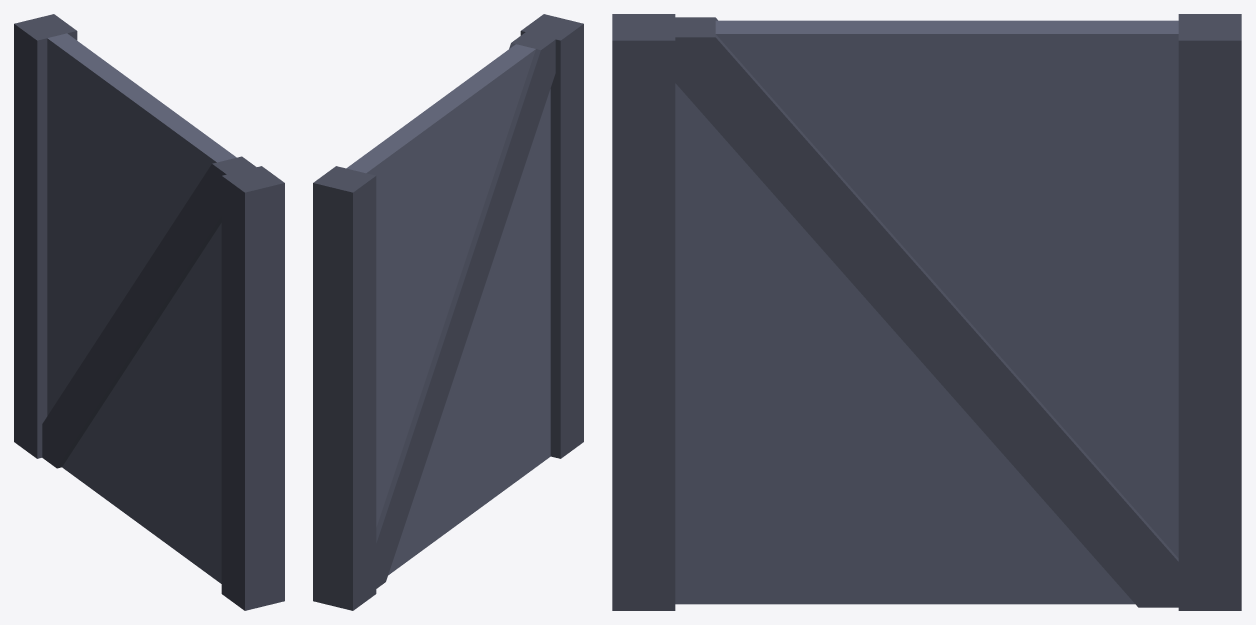
File: wall-wood-detail-diagonal.glb
3 renders of one model, left to right at view 1: azimuth 30°, elevation 25°; view 2: azimuth 150°, elevation 25°; view 3: azimuth 270°, elevation 25°, orthographic. The views are drawn at different scales.
Visible parts, largest first — view 1: wall-wood-detail-diagonal; view 2: wall-wood-detail-diagonal; view 3: wall-wood-detail-diagonal.
Part boxes in pixels (x1,y1,x2,y2): wall-wood-detail-diagonal: (14,14,284,610); wall-wood-detail-diagonal: (313,14,583,610); wall-wood-detail-diagonal: (612,14,1241,610).
Bounding box in the file's own units: 0.1 × 1 × 1.
1 material, 1 textured.
